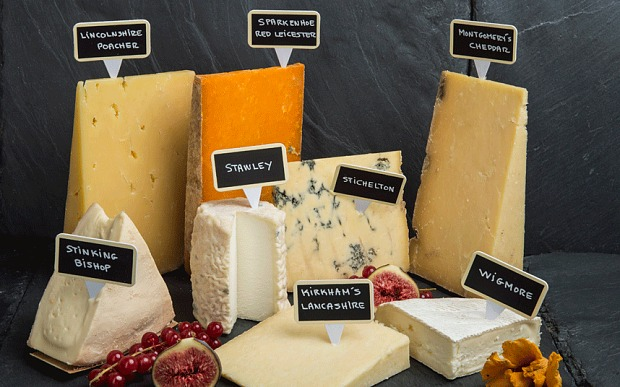cheese: (48, 68, 239, 299), (182, 59, 306, 294), (414, 68, 528, 306), (20, 216, 181, 370), (203, 306, 405, 387), (376, 293, 573, 370)
